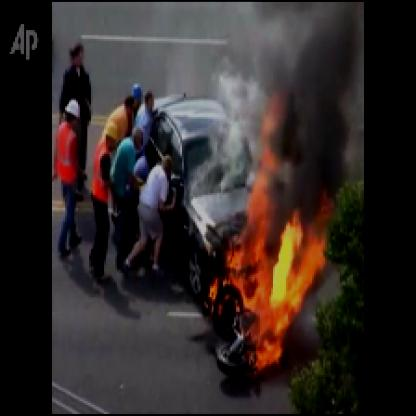Fire: (206, 96, 329, 380)
Smoke: (280, 2, 358, 197)
